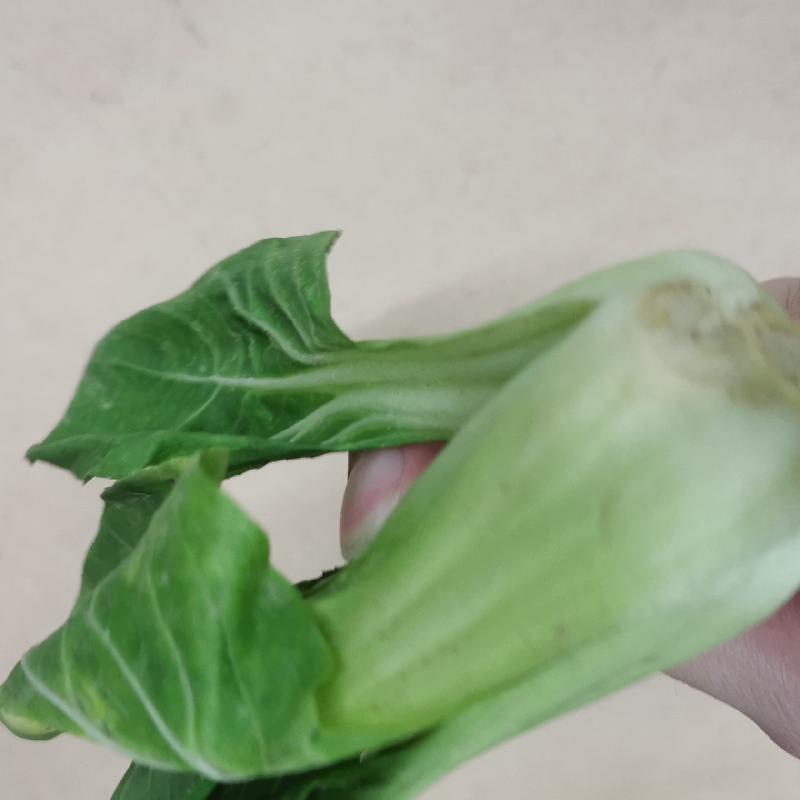green vegatable: (9, 222, 799, 789)
